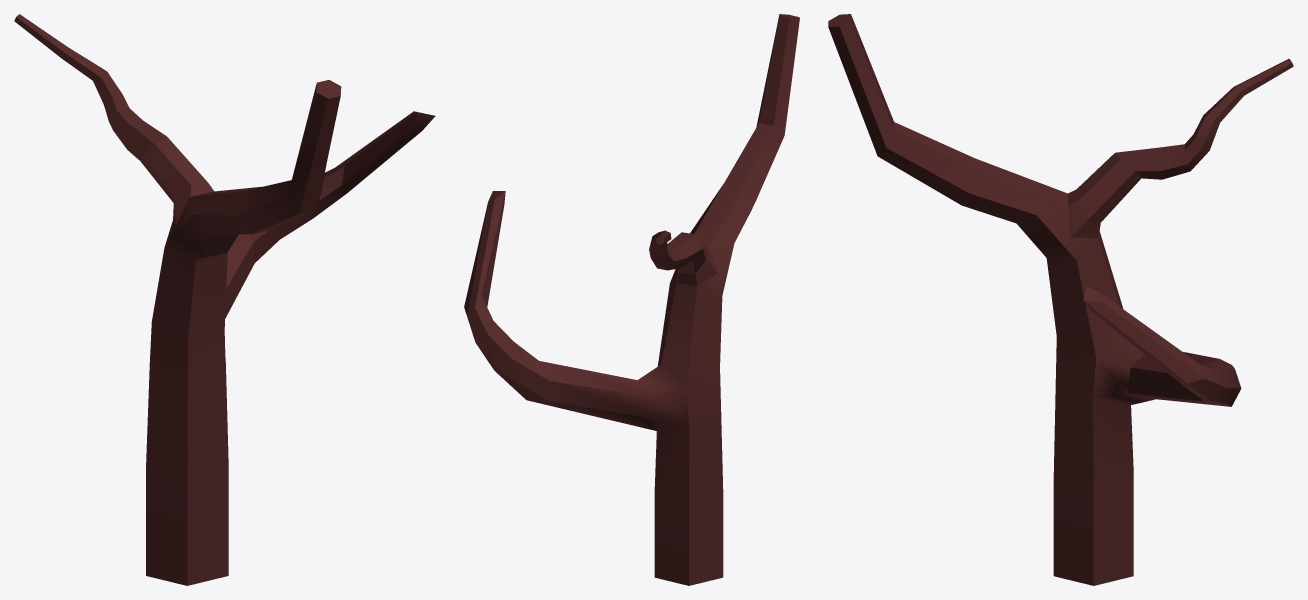
The model's file is noleaves_lowpoly.fbx.
3 views of the same model, side by side, from view 1: azimuth 30°, elevation 25°; view 2: azimuth 150°, elevation 25°; view 3: azimuth 270°, elevation 25° (orthographic). The views are drawn at different scales.
Parts seen in each view (by area): view 1: TreeNoLeaves; view 2: TreeNoLeaves; view 3: TreeNoLeaves.
Boxes of the visible parts, x1=… form: TreeNoLeaves: x1=14, y1=14, x2=435, y2=585; TreeNoLeaves: x1=464, y1=14, x2=799, y2=585; TreeNoLeaves: x1=828, y1=14, x2=1293, y2=585.
Size of the model in its own units: 7.59 by 13.25 by 10.08.
